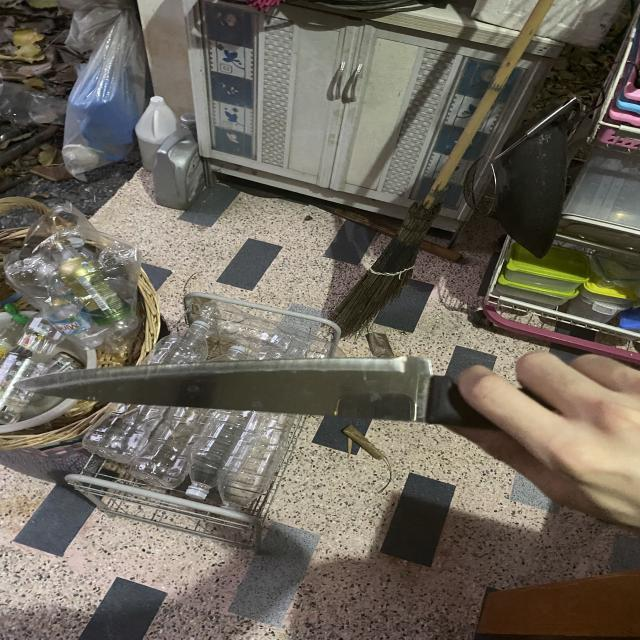faca: (9, 324, 640, 516)
